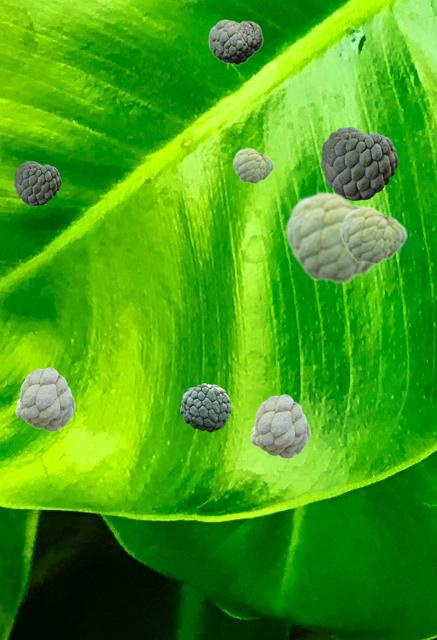atis: (284, 190, 383, 284), (321, 127, 397, 199), (339, 205, 406, 264), (15, 367, 74, 430), (250, 394, 309, 457), (208, 19, 262, 64), (180, 383, 230, 431), (14, 161, 60, 204), (232, 147, 273, 183)
